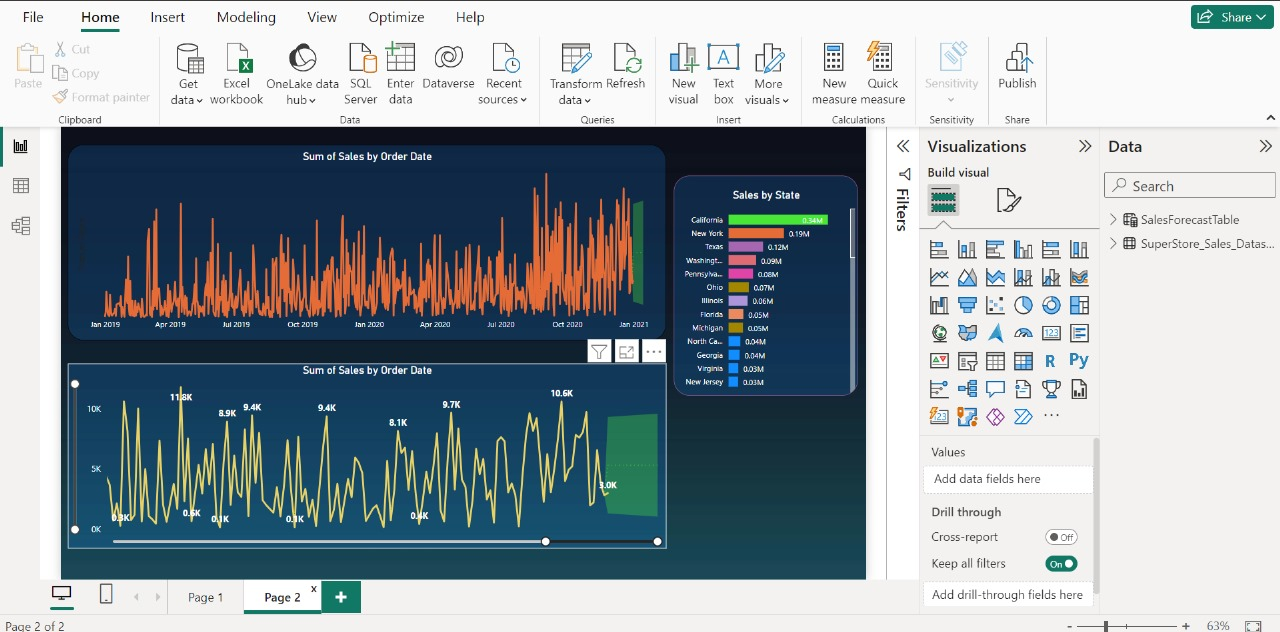

The page's visual inventory and layout, read from the dashboard file:
{"tool":"powerbi","page":{"name":"Page 2","canvas":[1280,720],"ordinal":1},"visuals":[{"type":"lineChart","fields":{"Y":["Sum(SuperStore_Sales_Dataset.Sales)"],"Category":["SuperStore_Sales_Dataset.Order Date"]},"box":[11.1,28.6,950.5,311.5],"z":0},{"type":"lineChart","fields":{"Y":["Sum(SuperStore_Sales_Dataset.Sales)"],"Category":["SuperStore_Sales_Dataset.Order Date"]},"box":[11.1,376.7,952.1,294],"z":1000},{"type":"barChart","title":"Sales by State","fields":{"Y":["Sum(SuperStore_Sales_Dataset.Sales)"],"Category":["SuperStore_Sales_Dataset.State"]},"box":[974.3,77.9,292.5,349.7],"z":2000}]}

Visuals, with their boxes on the page's 1280x720 design canvas (x1, y1, x2, y2). These are canvas units, not pixel positions in the 1280x632 screenshot, which may show the page scaled, cropped or inside an application window:
lineChart - Sum(SuperStore_Sales_Dataset.Sales) x SuperStore_Sales_Dataset.Order Date: bbox(11, 29, 962, 340)
lineChart - Sum(SuperStore_Sales_Dataset.Sales) x SuperStore_Sales_Dataset.Order Date: bbox(11, 377, 963, 671)
"Sales by State" barChart: bbox(974, 78, 1267, 428)
